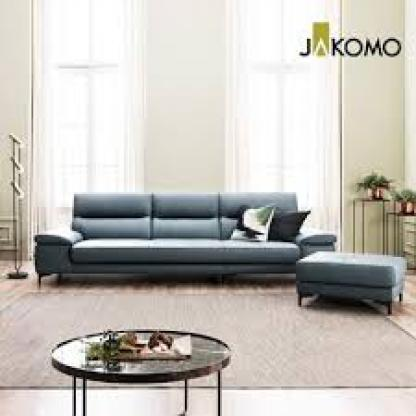sofa: (37, 188, 340, 284)
